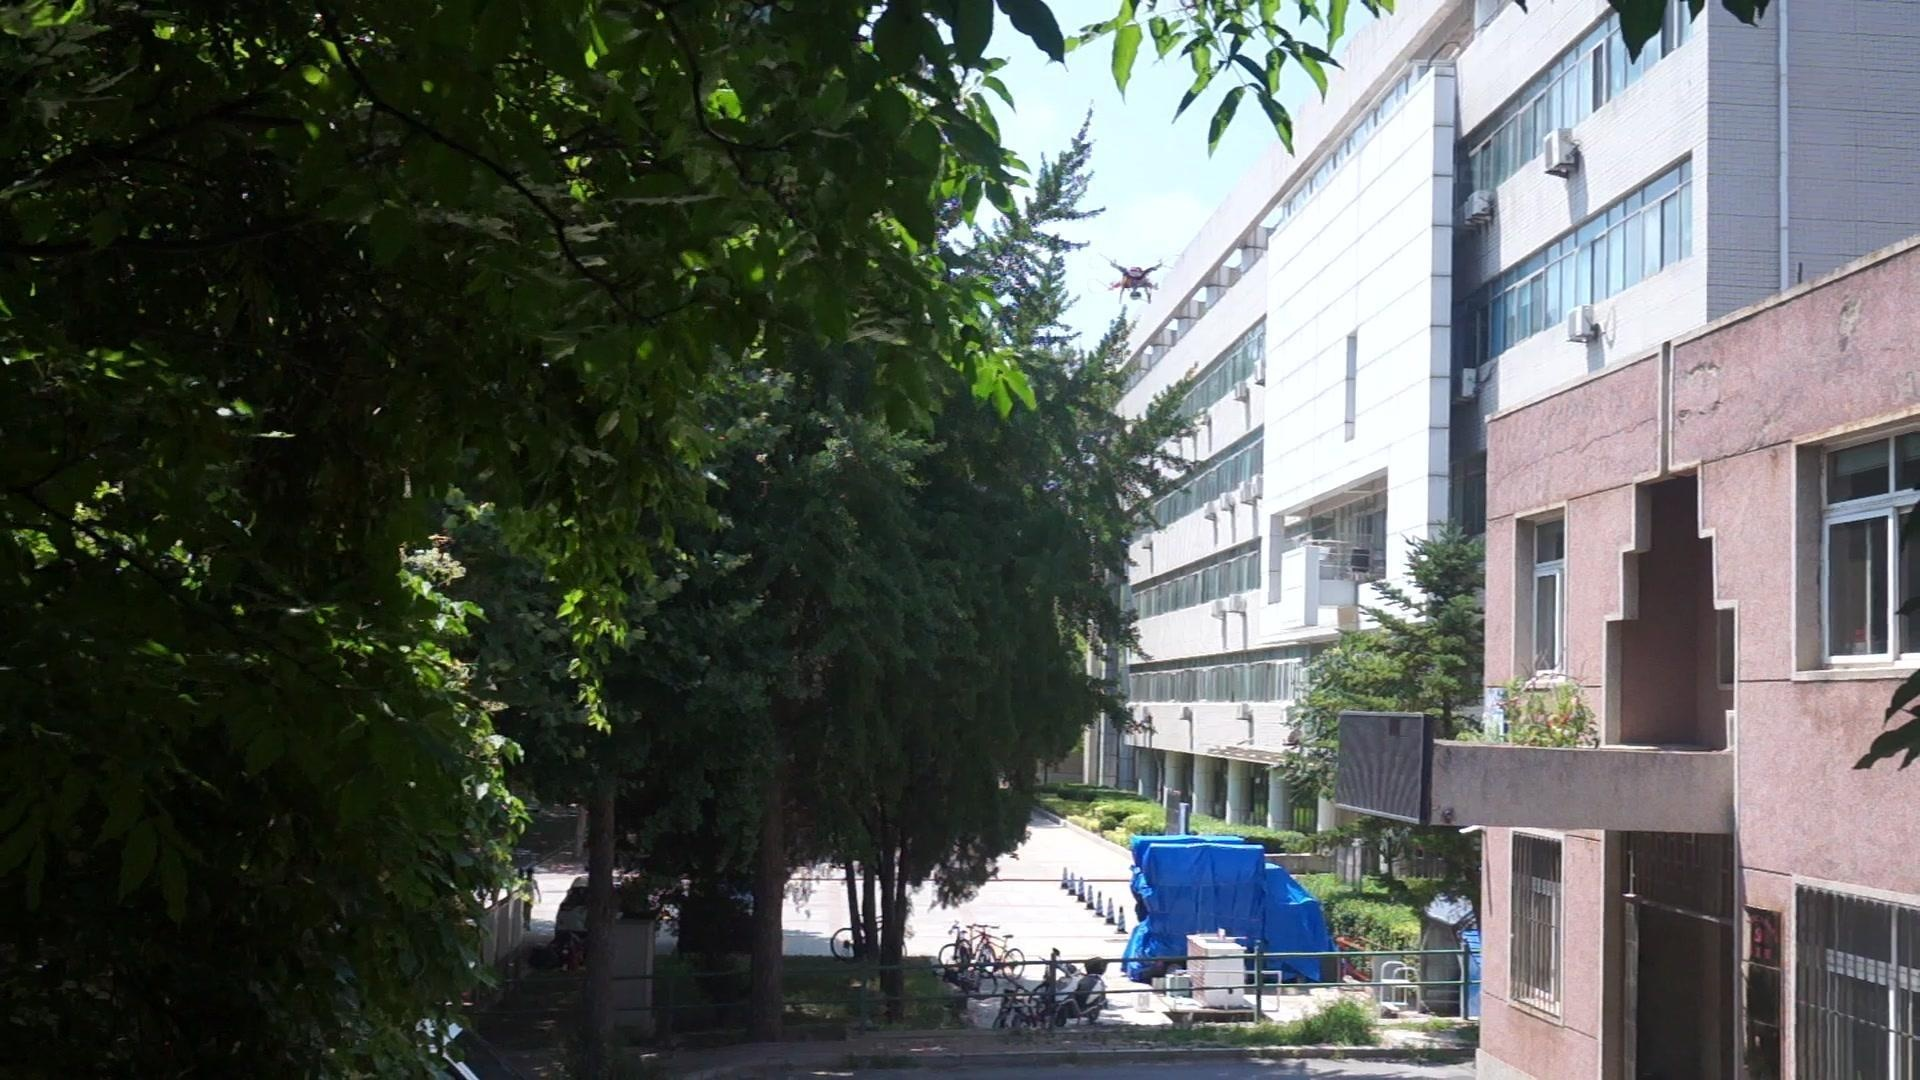UAV: (1087, 252, 1184, 306)
